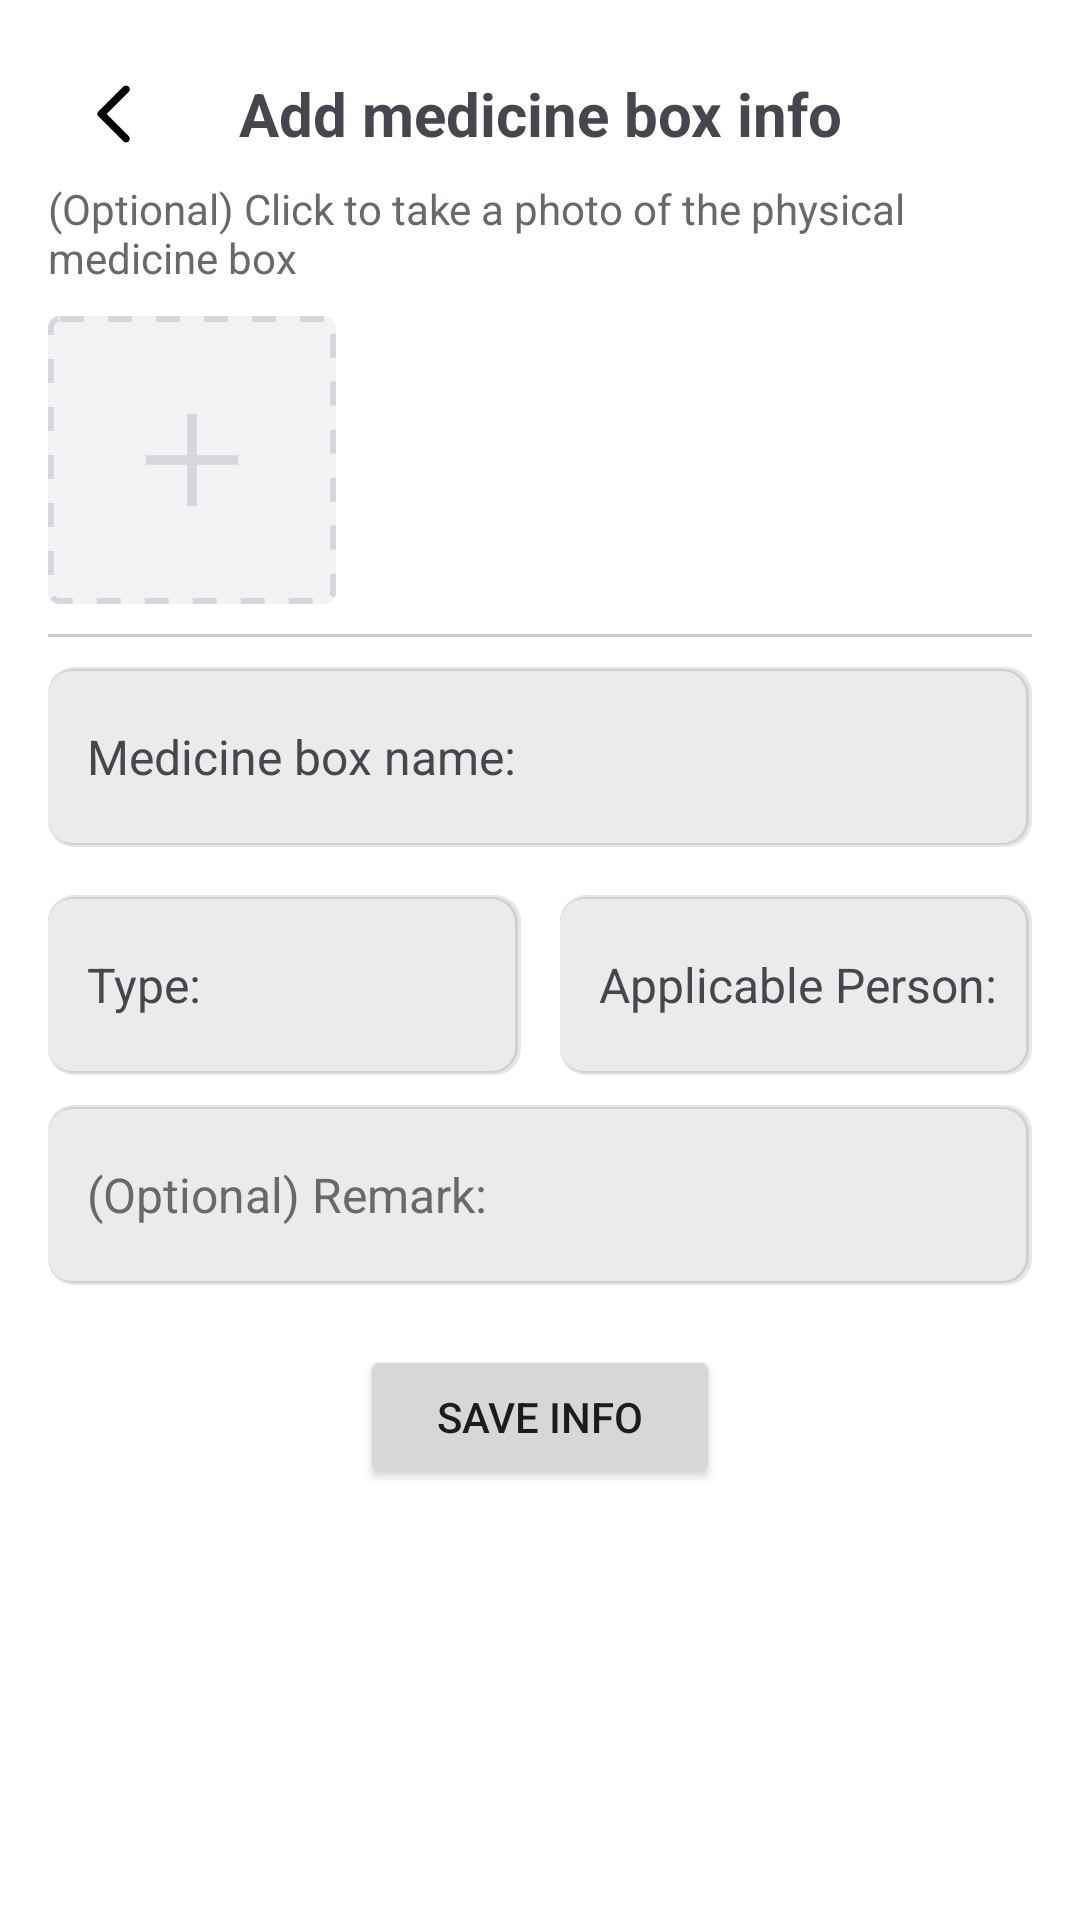

Named icons in this screenshot (1080x1920) and their bounding boxes, (x1, y1, x2, y2):
add picture: (48, 316, 336, 604)
Return: (97, 85, 130, 143)
